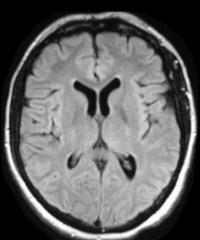Normal_Brain: (2, 1, 200, 240)
